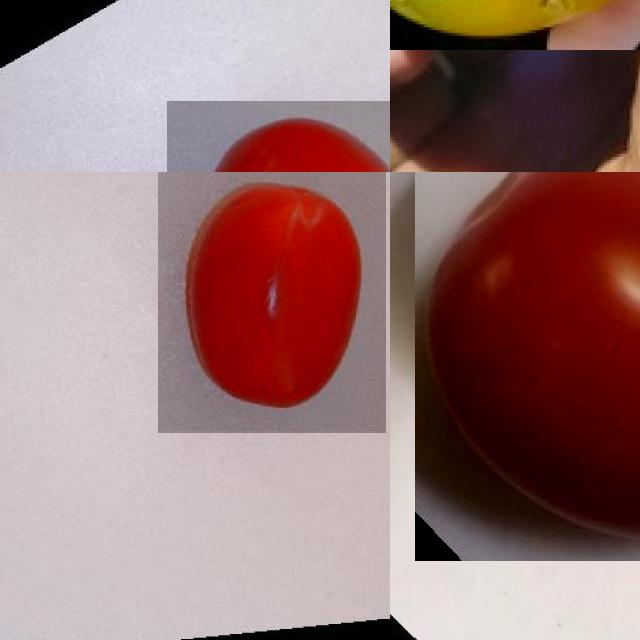Fresh Tomato: (415, 172, 640, 561), (158, 172, 386, 433), (167, 101, 390, 172)
Rotten Tomato: (390, 0, 640, 50)
